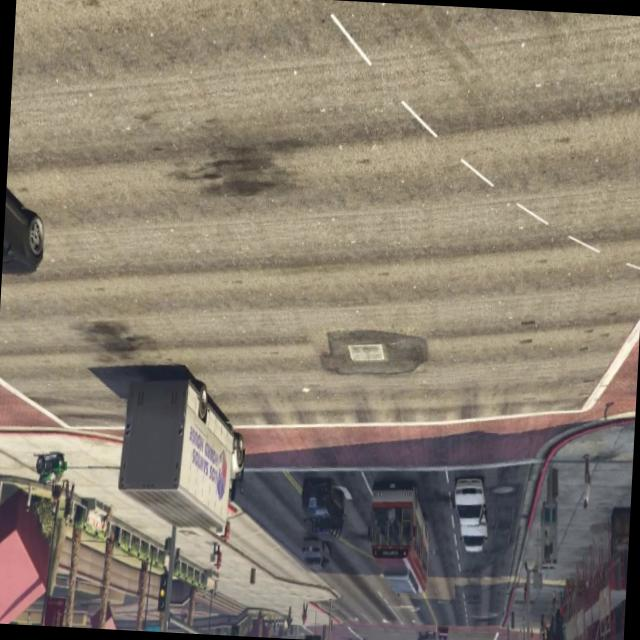Yellow-Signal: (149, 564, 169, 624), (297, 625, 329, 640), (226, 613, 244, 636)
